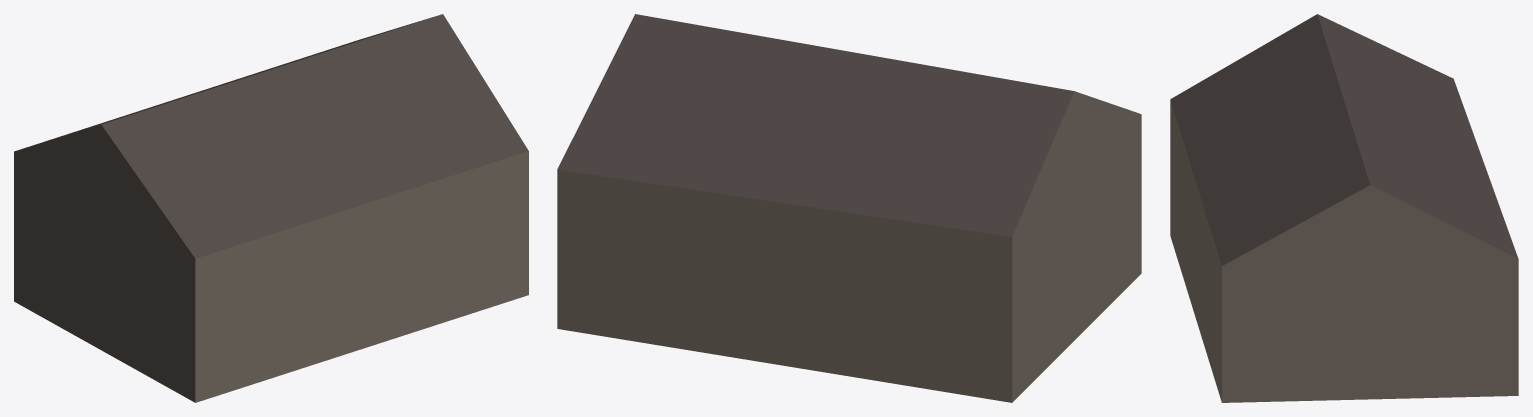
The picture shows the model from 3 angles, left to right: view 1: azimuth 30°, elevation 25°; view 2: azimuth 150°, elevation 25°; view 3: azimuth 270°, elevation 25°; orthographic projection. The views are drawn at different scales.
Visible parts, largest first — view 1: HP-w1512800281; view 2: HP-w1512800281; view 3: HP-w1512800281.
Boxes of the visible parts, box(x1,y1,x2,y2) form: HP-w1512800281: box(14, 14, 528, 402); HP-w1512800281: box(557, 14, 1141, 402); HP-w1512800281: box(1170, 14, 1518, 402).
Size of the model in its own units: 17.11 by 9.4 by 13.85.
